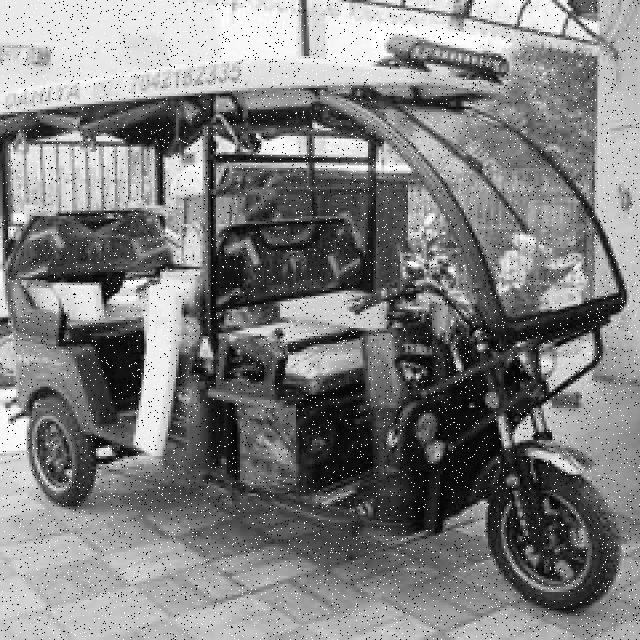Toto: (0, 61, 632, 603)
